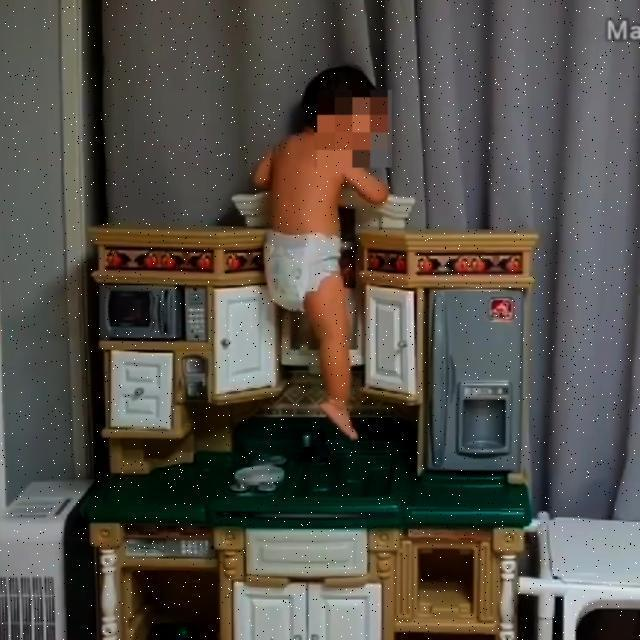child: (248, 57, 396, 436)
